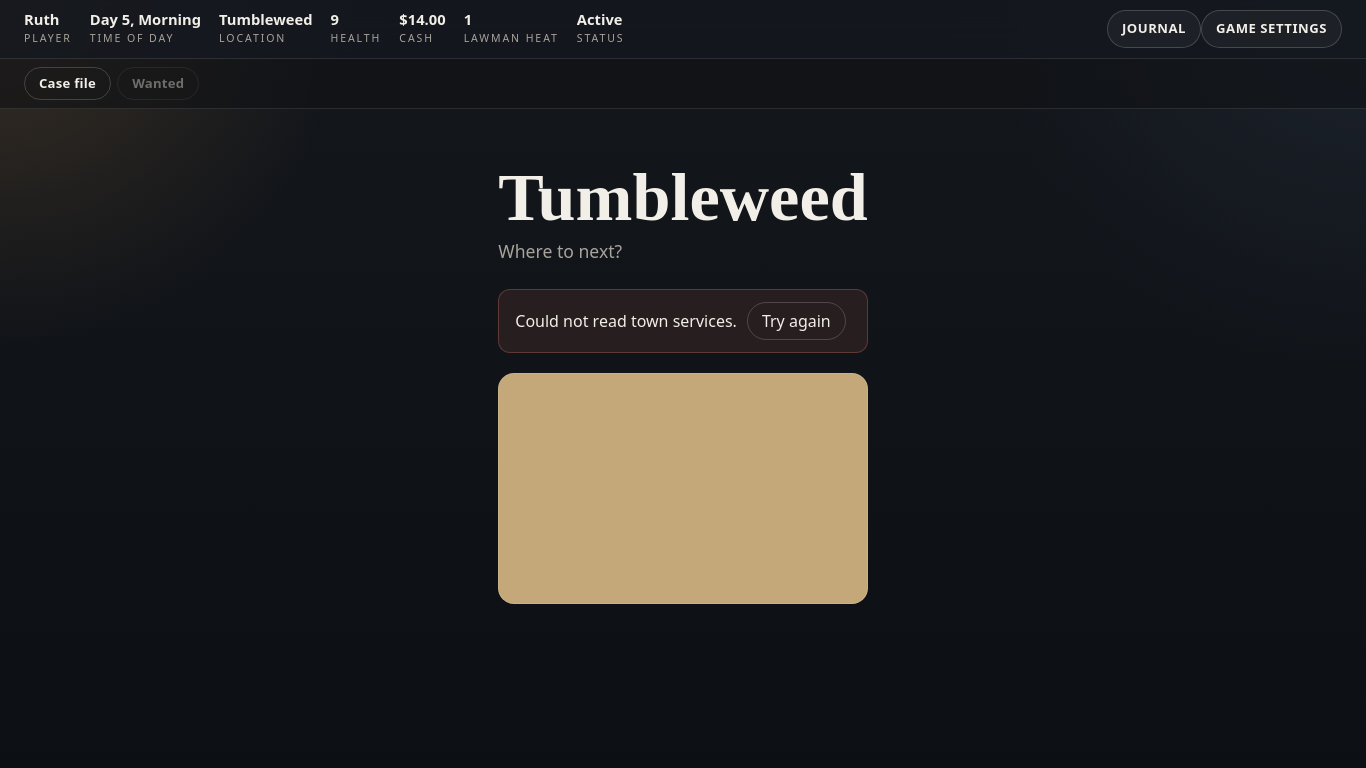
Scenario: AppShell › recovers town services after the available-actions read fails
expect the message shows "Could not read town services": met, box x1=515 y1=310 x2=737 y2=332
Click the button "Try again" at (796, 321), box x1=747 y1=302 x2=846 y2=340
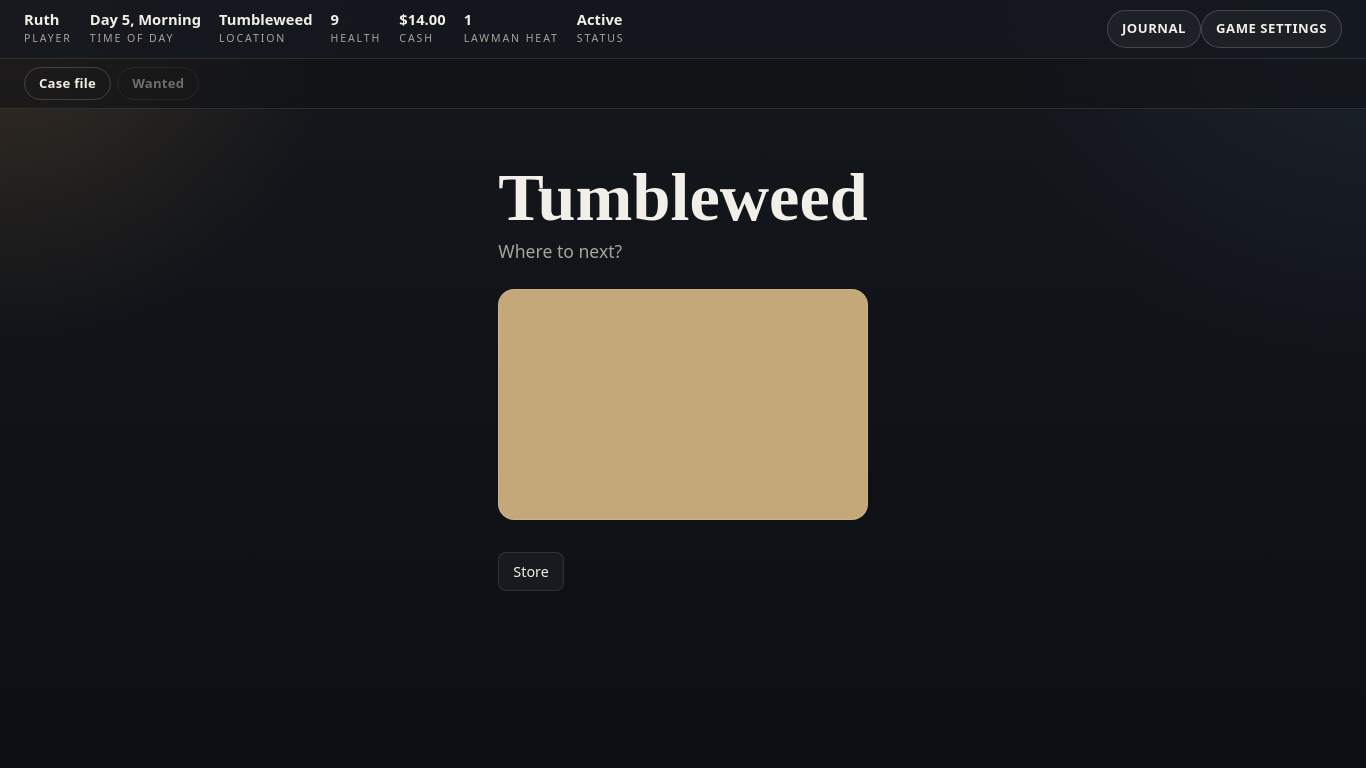
expect the button "Store" is shown: met, box x1=498 y1=552 x2=564 y2=591
